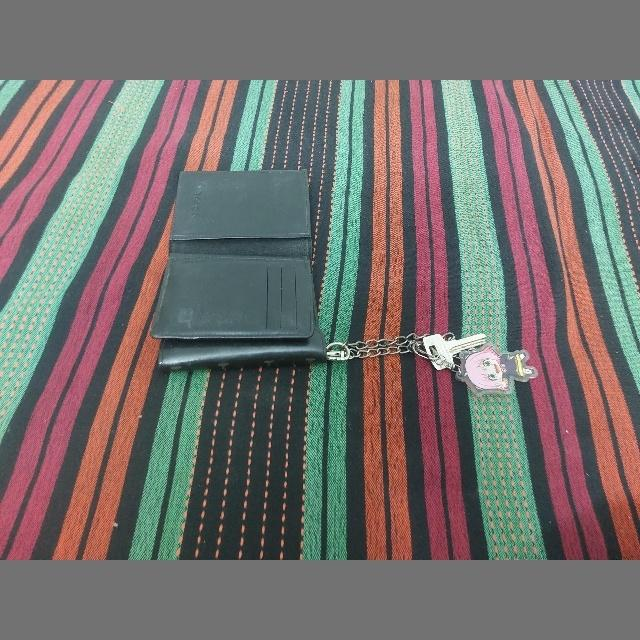Wallet: (136, 146, 328, 370)
